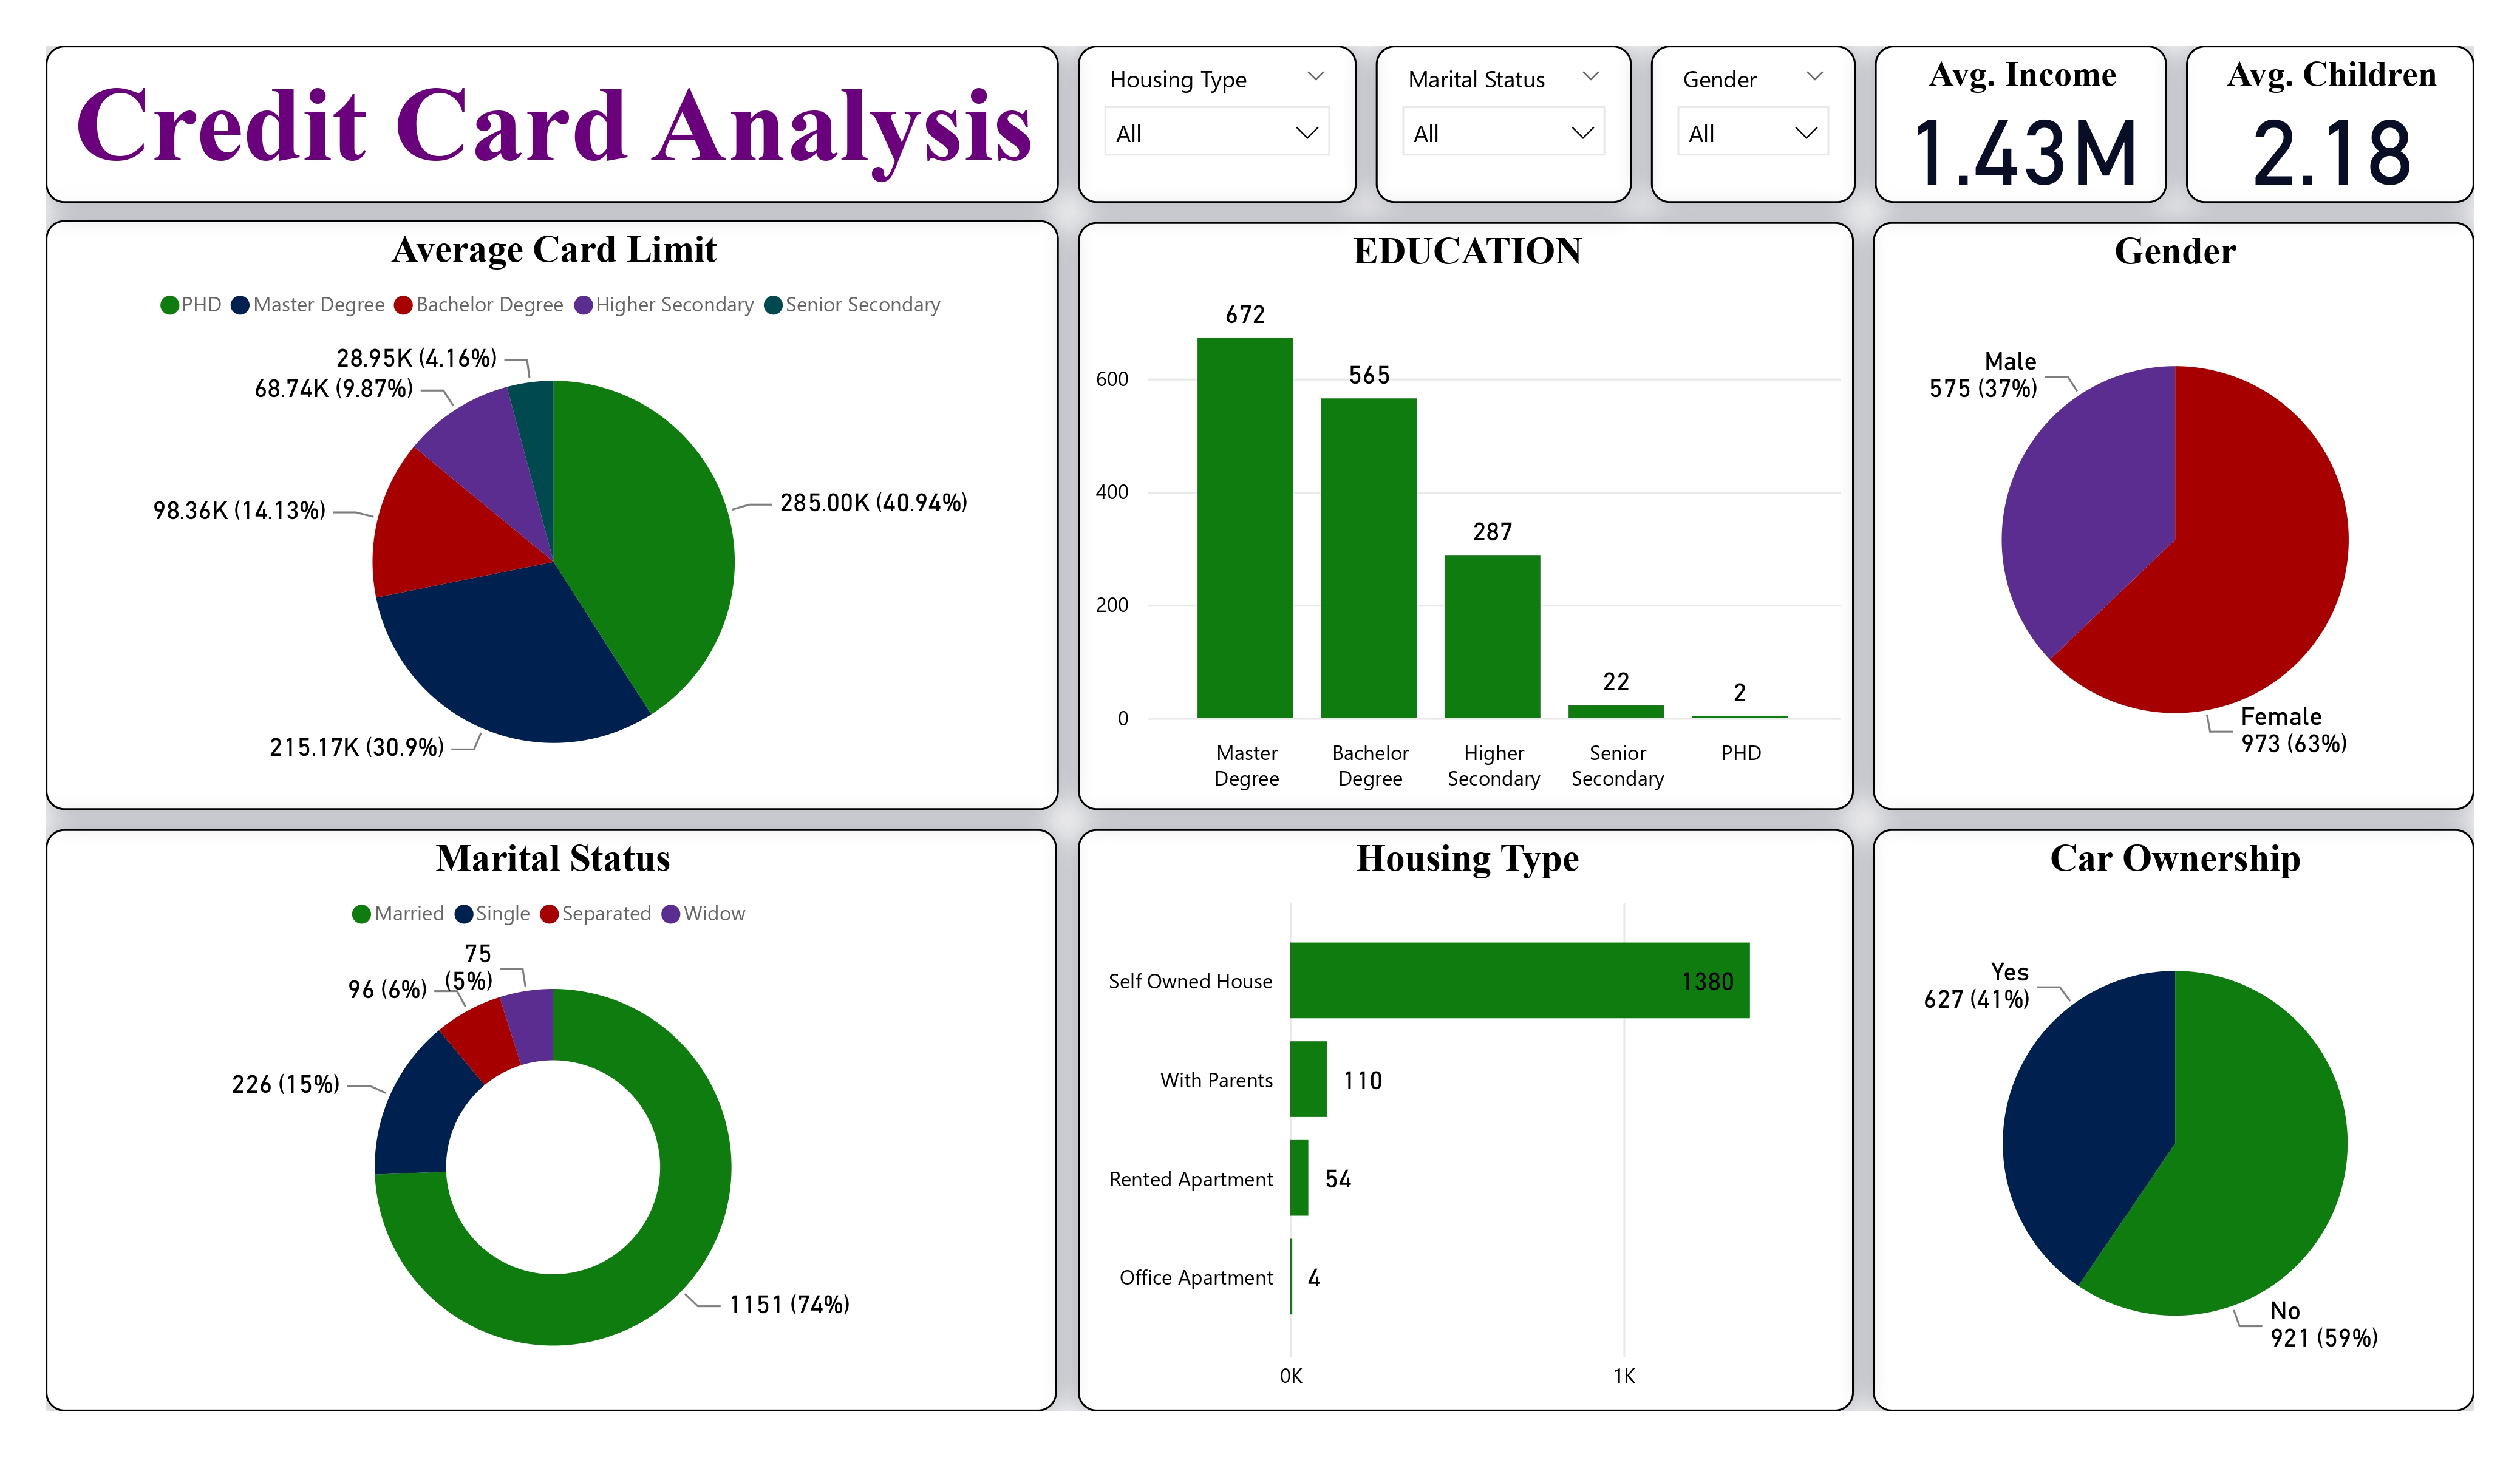

The dashboard page shown, as its layout file describes it:
{"tool":"powerbi","page":{"name":"Page 1","canvas":[1280,720],"ordinal":0},"visuals":[{"type":"clusteredColumnChart","title":"EDUCATION","fields":{"Category":["Dataset.EDUCATION"],"Y":["CountNonNull(Dataset.Customer_ID)"]},"box":[544,92.9,409.5,310.5],"z":0},{"type":"donutChart","title":"Marital Status","fields":{"Category":["Dataset.Marital_status"],"Y":["CountNonNull(Dataset.Customer_ID)"]},"box":[0,413.2,533,306.8],"z":1},{"type":"clusteredBarChart","title":"Housing Type","fields":{"Category":["Dataset.Housing_type"],"Y":["CountNonNull(Dataset.Customer_ID)"]},"box":[544,413.2,409.5,306.8],"z":2},{"type":"pieChart","title":"Average Card Limit","fields":{"Category":["Dataset.EDUCATION"],"Y":["Avg(Dataset.Card_limit)"]},"box":[0,92.4,533.5,310.6],"z":3},{"type":"pieChart","title":"Car Ownership","fields":{"Category":["Dataset.Car_owner"],"Y":["CountNonNull(Dataset.Customer_ID)"]},"box":[963.3,413.2,316.6,306.8],"z":4},{"type":"slicer","fields":{"Values":["Dataset.Marital_status"]},"box":[701.2,0,135,82.5],"z":5},{"type":"slicer","fields":{"Values":["Dataset.Housing_type"]},"box":[543.8,0,147.5,82.5],"z":6},{"type":"slicer","fields":{"Values":["Dataset.GENDER"]},"box":[846.2,0,107.5,82.5],"z":7},{"type":"textbox","box":[0,0,533.8,82.5],"z":8},{"type":"pieChart","title":"Gender","fields":{"Category":["Dataset.GENDER"],"Y":["CountNonNull(Dataset.Customer_ID)"]},"box":[963.3,92.9,316.6,310.5],"z":9},{"type":"card","title":"Avg. Income","fields":{"Values":["Avg(Dataset.Annual_income)"]},"box":[963.8,0,153.8,82.5],"z":10},{"type":"card","title":"Avg. Children","fields":{"Values":["Avg(Dataset.CHILDREN)"]},"box":[1127.5,0,152.5,82.5],"z":11}]}

Visuals, with their boxes in screenshot pixels (x1, y1, x2, y2):
"EDUCATION" clusteredColumnChart: rect(1078, 220, 1845, 801)
"Marital Status" donutChart: rect(59, 820, 1057, 1394)
"Housing Type" clusteredBarChart: rect(1078, 820, 1845, 1394)
"Average Card Limit" pieChart: rect(59, 219, 1058, 801)
"Car Ownership" pieChart: rect(1863, 820, 2456, 1394)
slicer - Dataset.Marital_status: rect(1372, 46, 1625, 200)
slicer - Dataset.Housing_type: rect(1077, 46, 1354, 200)
slicer - Dataset.GENDER: rect(1644, 46, 1845, 200)
textbox: rect(59, 46, 1059, 200)
"Gender" pieChart: rect(1863, 220, 2456, 801)
"Avg. Income" card: rect(1864, 46, 2152, 200)
"Avg. Children" card: rect(2171, 46, 2456, 200)
